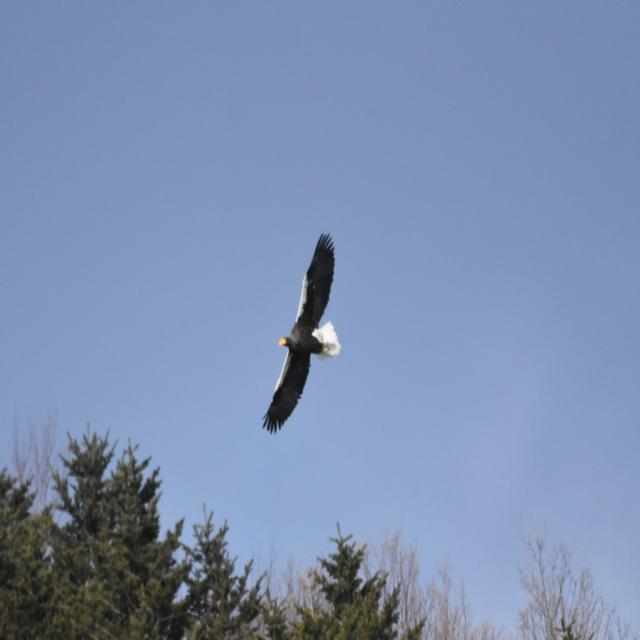bird: (266, 228, 342, 438)
